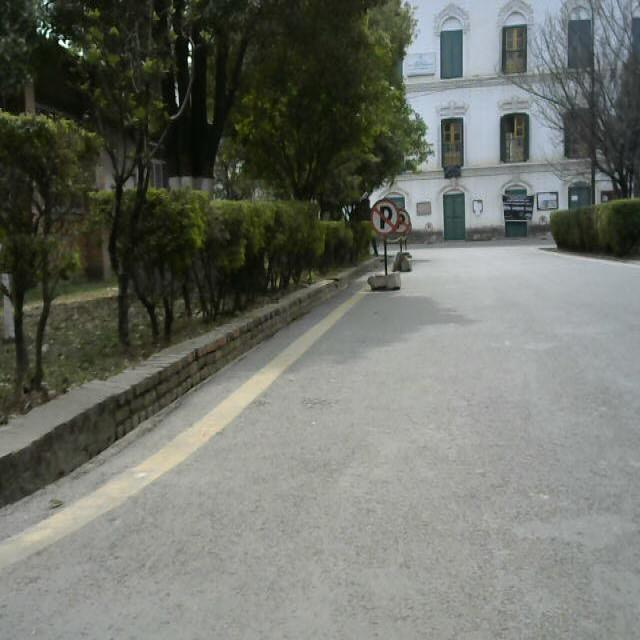Buildings: (413, 5, 629, 248)
NoParking: (369, 186, 420, 294), (398, 208, 416, 275), (535, 210, 549, 247)
Road: (0, 273, 640, 640)
trees: (0, 0, 414, 327), (274, 0, 428, 183), (0, 103, 109, 301), (117, 175, 208, 329), (236, 194, 337, 290), (197, 186, 264, 302), (305, 193, 360, 288)
